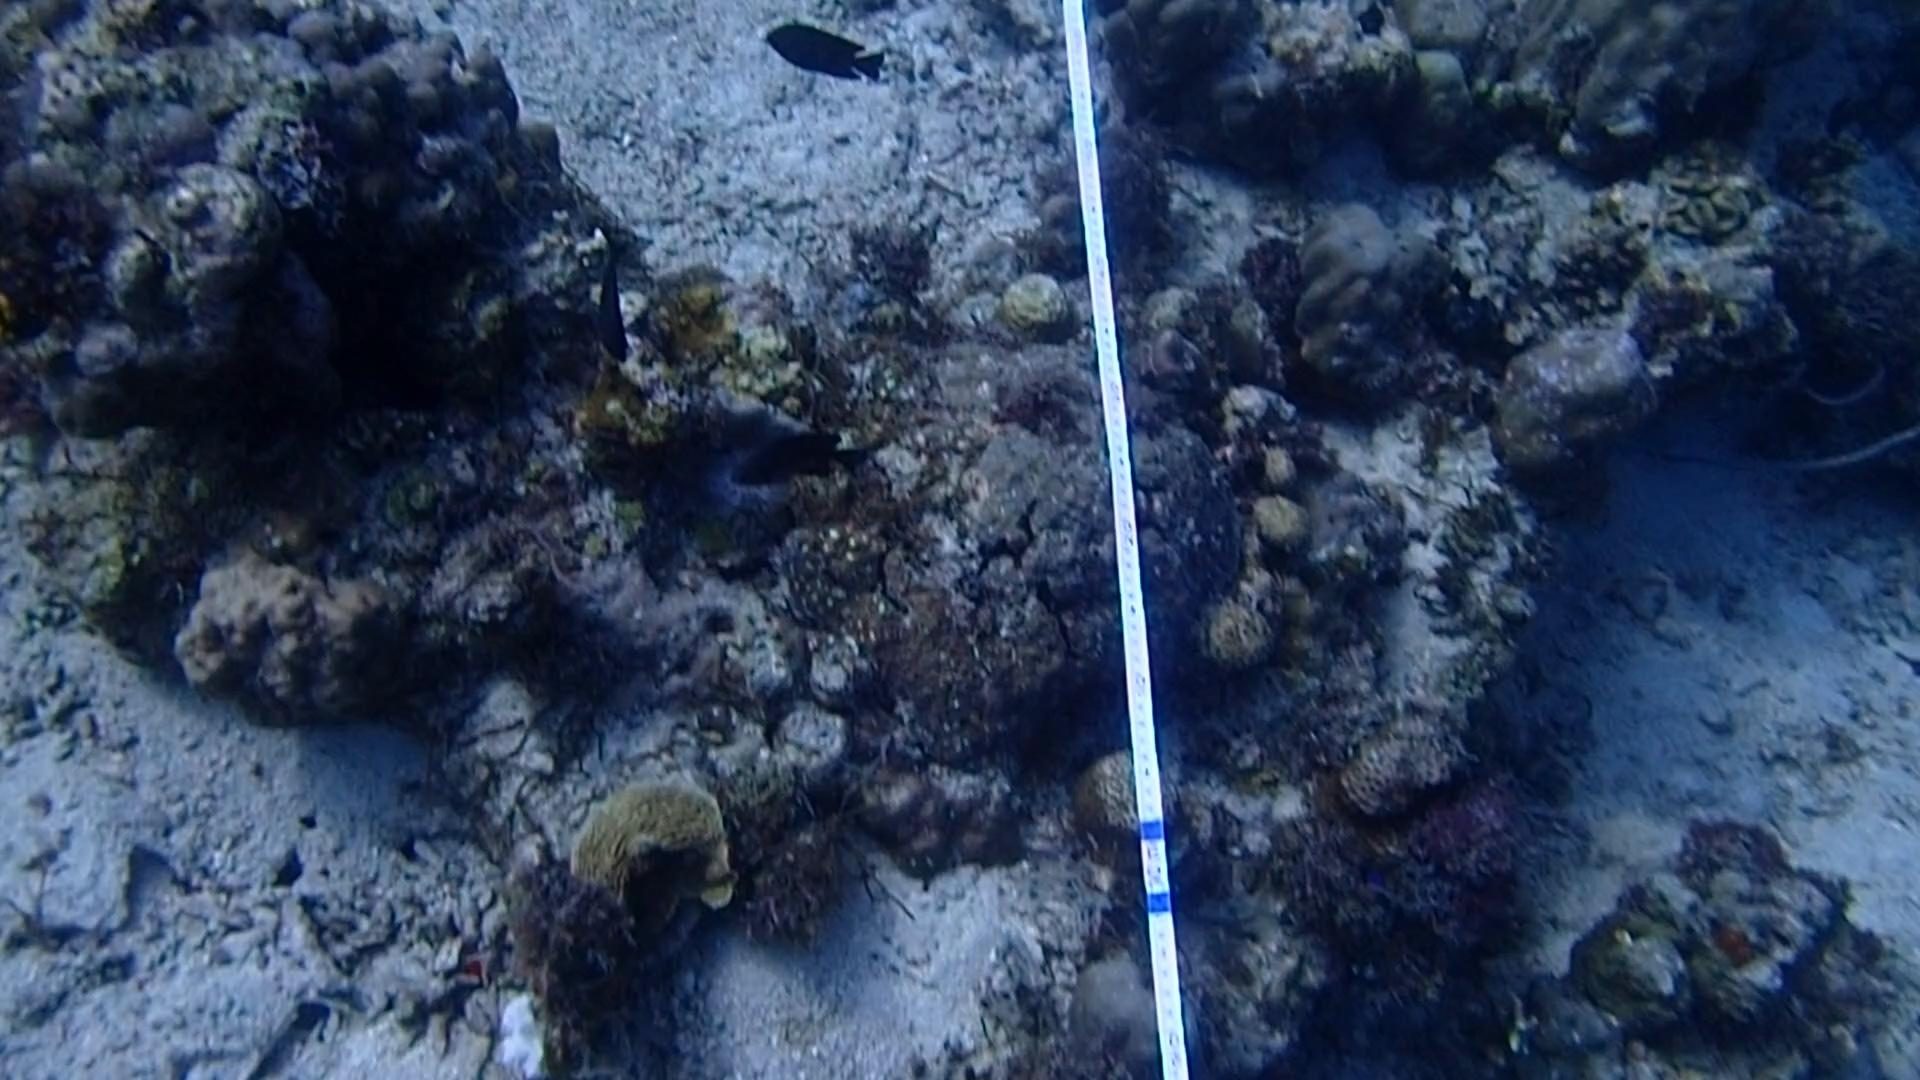Dark Fish: (745, 9, 899, 94), (727, 417, 874, 496), (574, 239, 646, 365)
